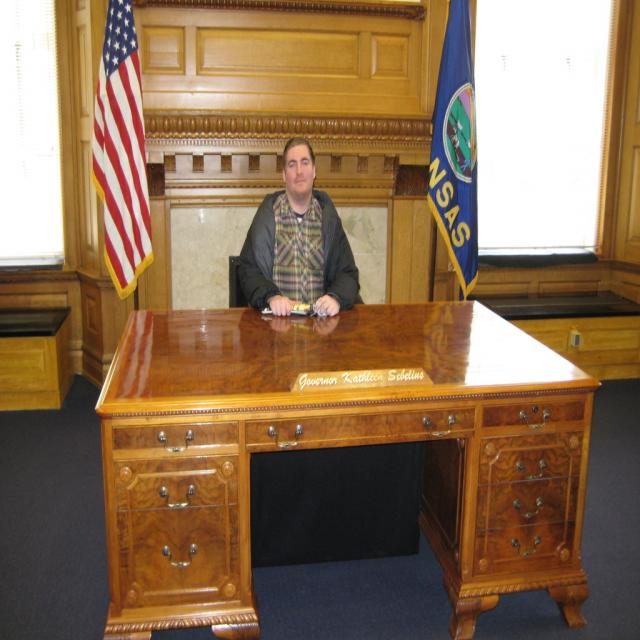desk: (98, 310, 598, 636)
person: (237, 136, 361, 317)
